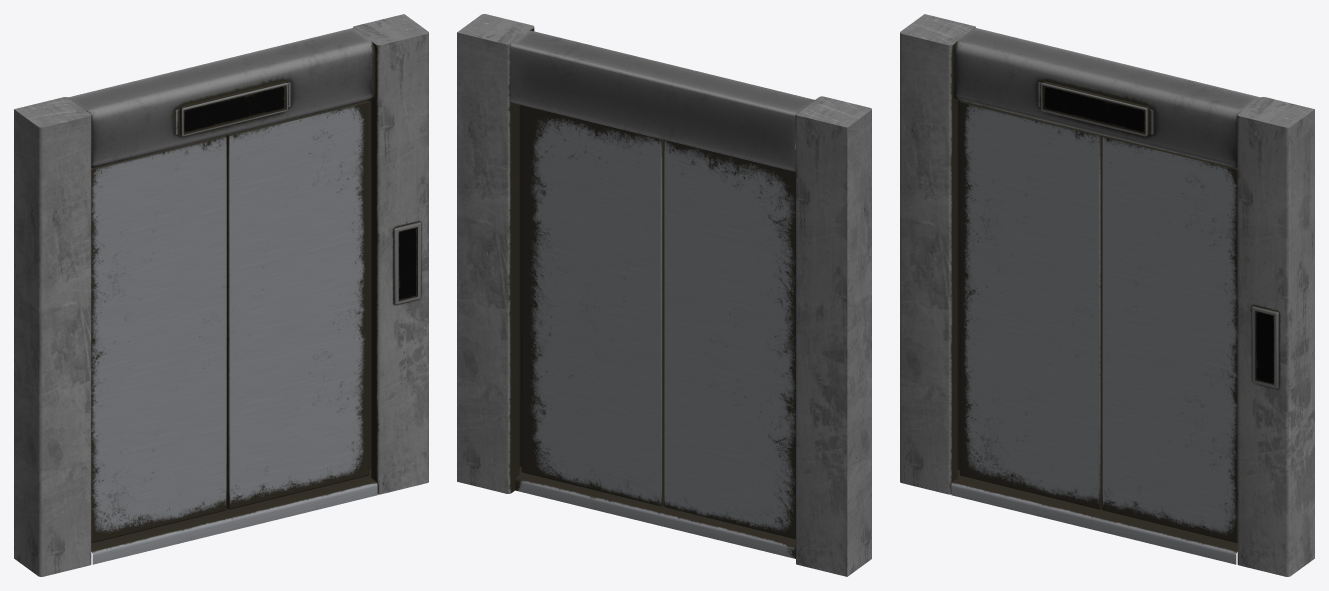
Rendered from ElevatorDoors.fbx.
3 renders of one model, left to right at view 1: azimuth 30°, elevation 25°; view 2: azimuth 150°, elevation 25°; view 3: azimuth 330°, elevation 25°, orthographic.
Parts seen in each view (by area): view 1: BASE, L, R; view 2: BASE, L, R; view 3: BASE, R, L.
Boxes of the visible parts, x1,y1,x2,y2 form: BASE: (14,14,428,576); L: (226,101,369,509); R: (91,135,226,543); BASE: (457,14,871,576); L: (521,105,663,506); R: (664,140,795,539); BASE: (900,14,1314,576); R: (959,101,1102,509); L: (1102,135,1237,543).
Bounding box in the file's own units: 349 × 384 × 42.12.
Materials: 1 (1 with a texture image).
